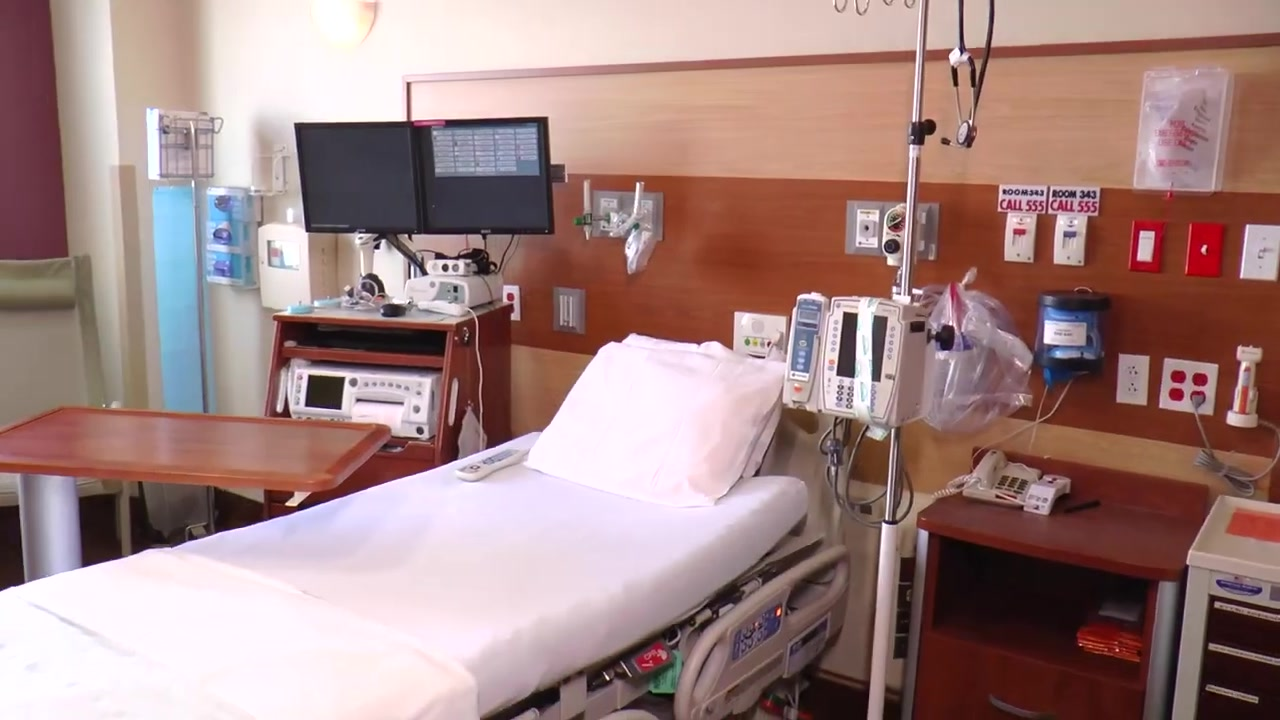bedrail: (673, 542, 851, 720)
bedside_table: (919, 472, 1207, 720)
chair: (1, 254, 134, 551)
computer: (292, 118, 425, 232), (420, 121, 553, 235)
dispenser: (204, 182, 260, 285)
drawer: (261, 297, 510, 517)
handle: (981, 691, 1047, 720)
hospital_bed: (1, 330, 852, 720)
infusion_pump: (782, 292, 928, 429)
iv_pole: (868, 1, 937, 716), (161, 116, 224, 413)
medical_drawer: (1171, 494, 1280, 720)
medical_waste_container: (258, 221, 335, 311)
mouse: (380, 305, 403, 317)
overbed_table: (1, 406, 390, 584)
telephone: (928, 449, 1042, 509)
